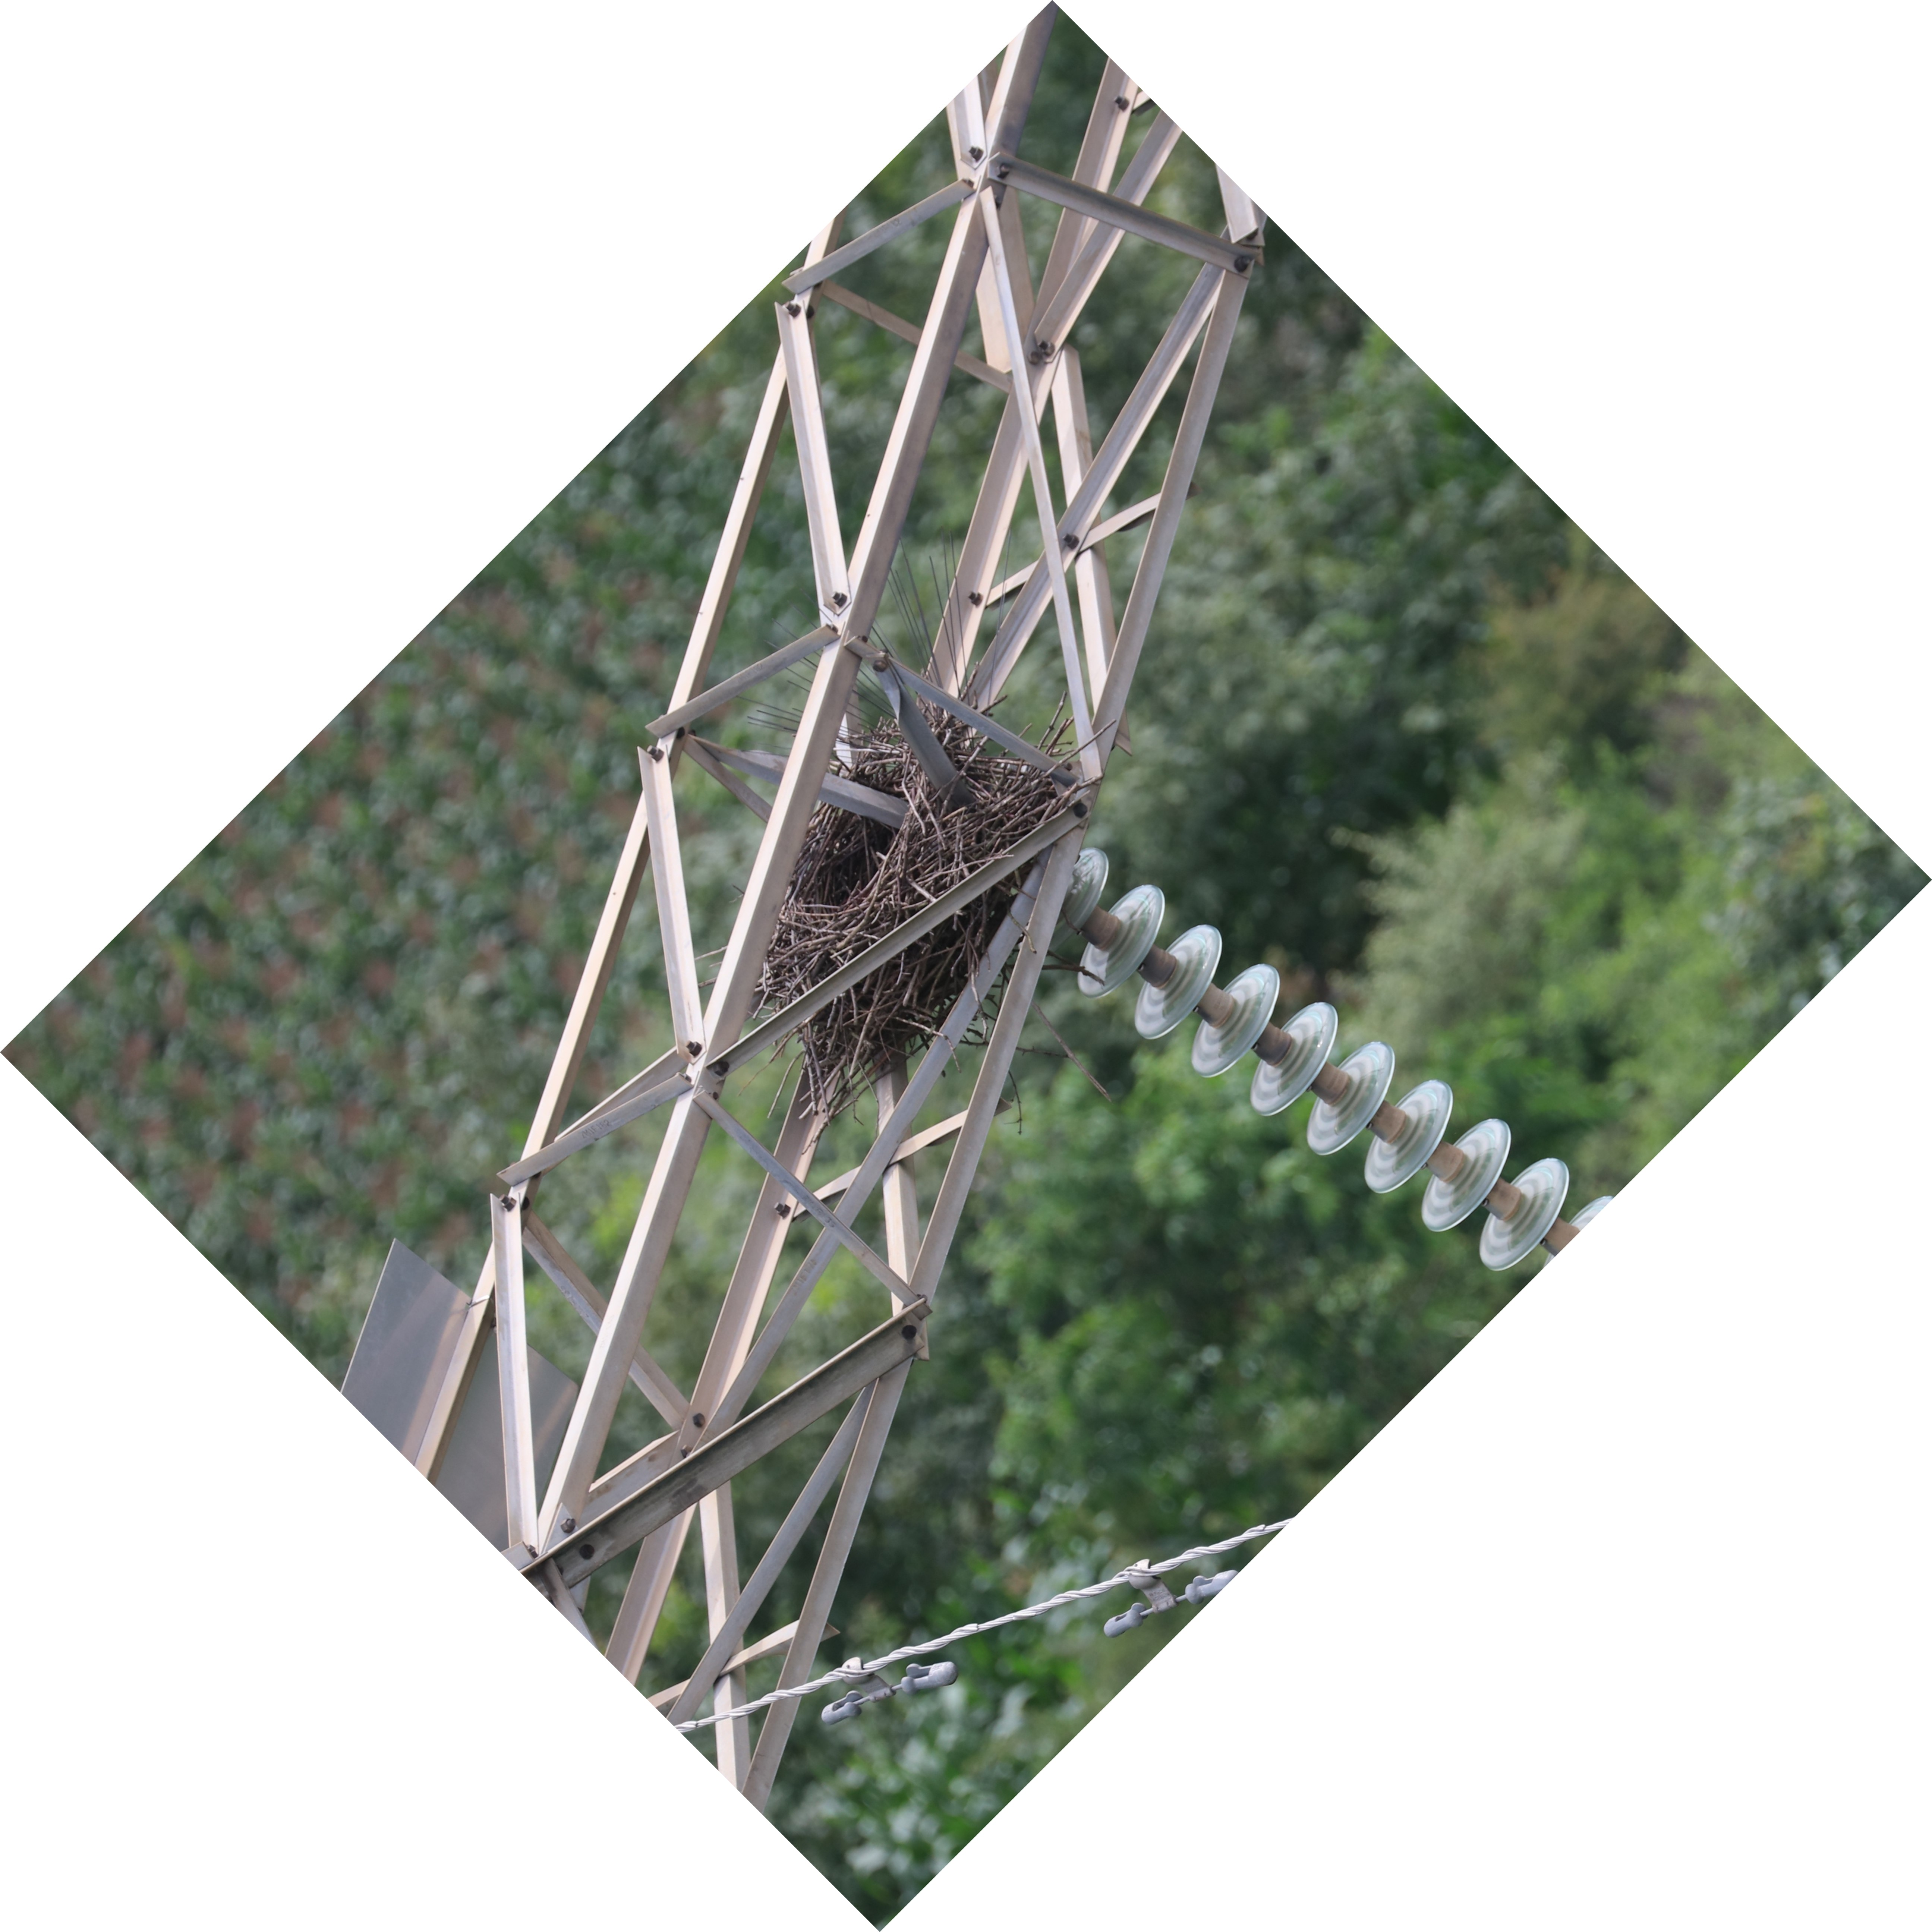niaowo: (704, 679, 1108, 1081)
